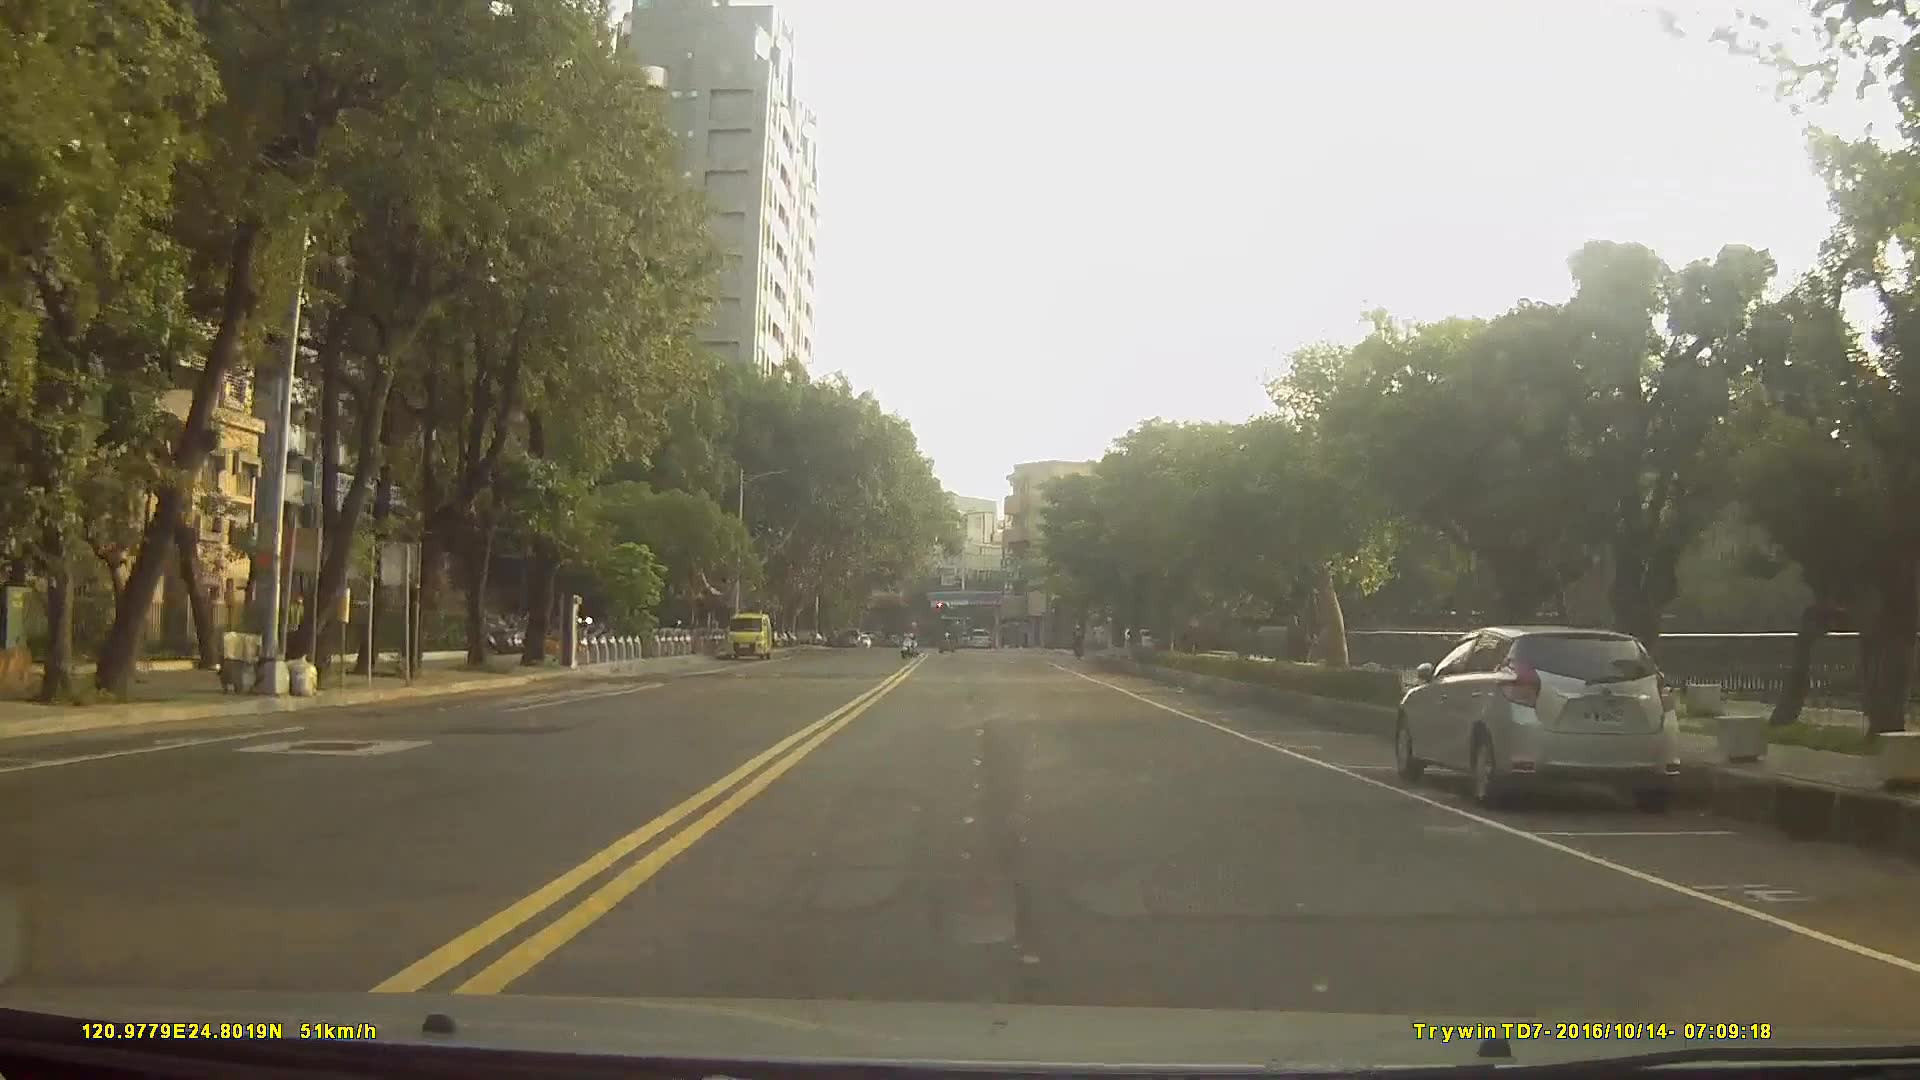rider: (898, 623, 922, 663), (938, 622, 964, 657)
vehicle: (1395, 622, 1683, 814), (967, 627, 994, 652)
